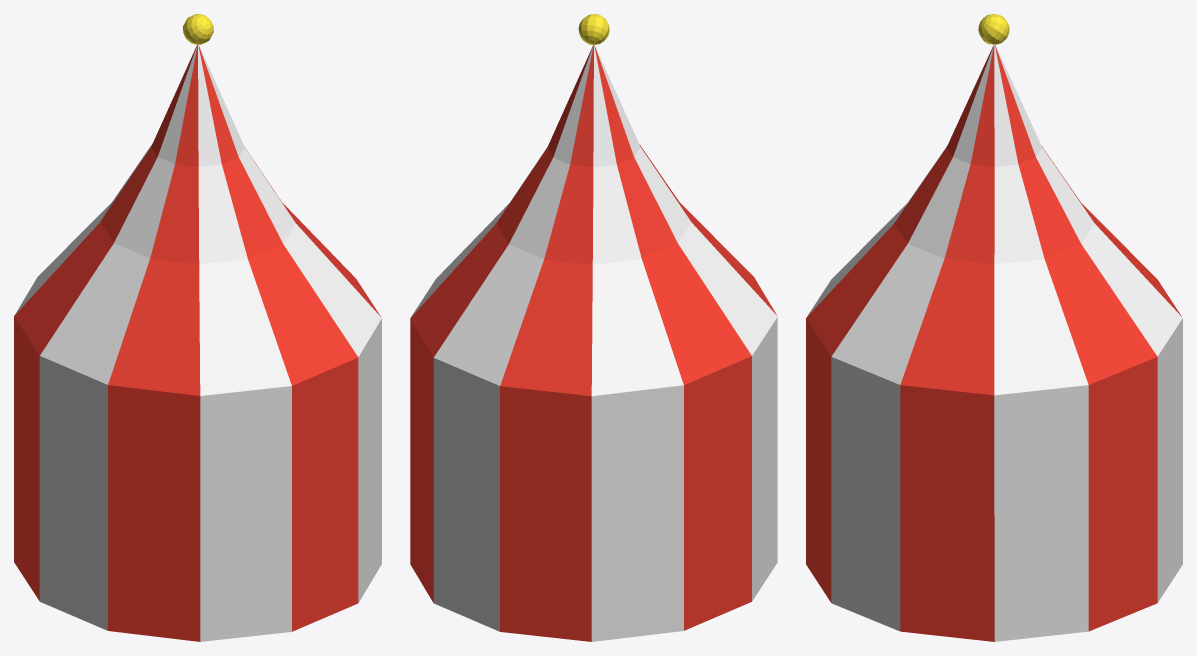
The model's file is bramblepoint.gltf.
3 views of the same model, side by side, from view 1: azimuth 30°, elevation 25°; view 2: azimuth 150°, elevation 25°; view 3: azimuth 270°, elevation 25° (orthographic).
Parts seen in each view (by area): view 1: model; view 2: model; view 3: model.
Boxes of the visible parts, x1,y1,x2,y2 form: model: (14, 14, 381, 641); model: (410, 14, 777, 641); model: (806, 14, 1182, 641).
Size of the model in its own units: 0.35 by 0.5789 by 0.36.
